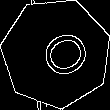O_SW: (23, 22, 89, 85)
